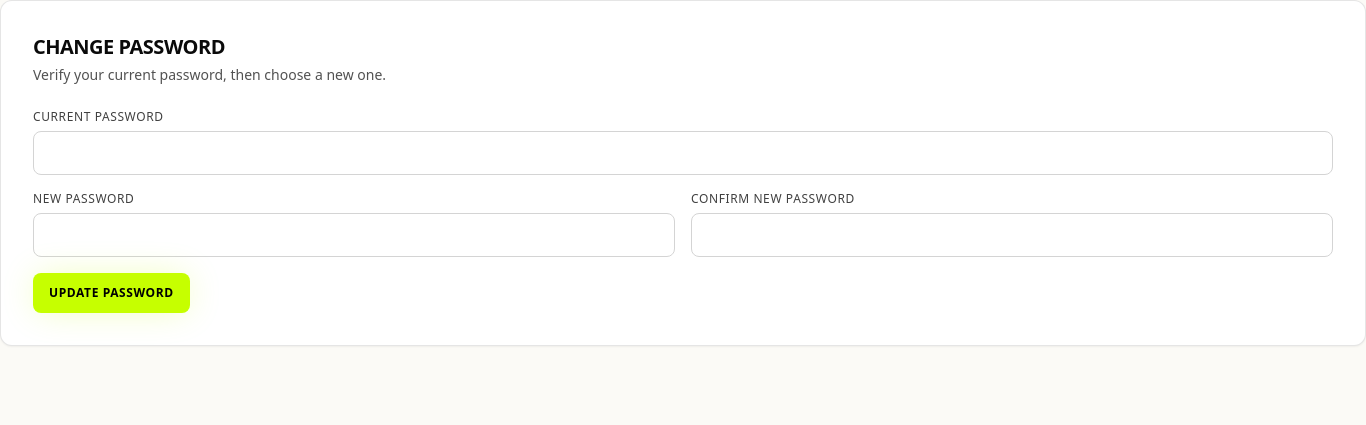
Test: ChangePasswordForm › does not update when the current password is wrong
Type "current-pass" into the password field labelled "Current password" at (683, 153), box [33, 131, 1333, 175]
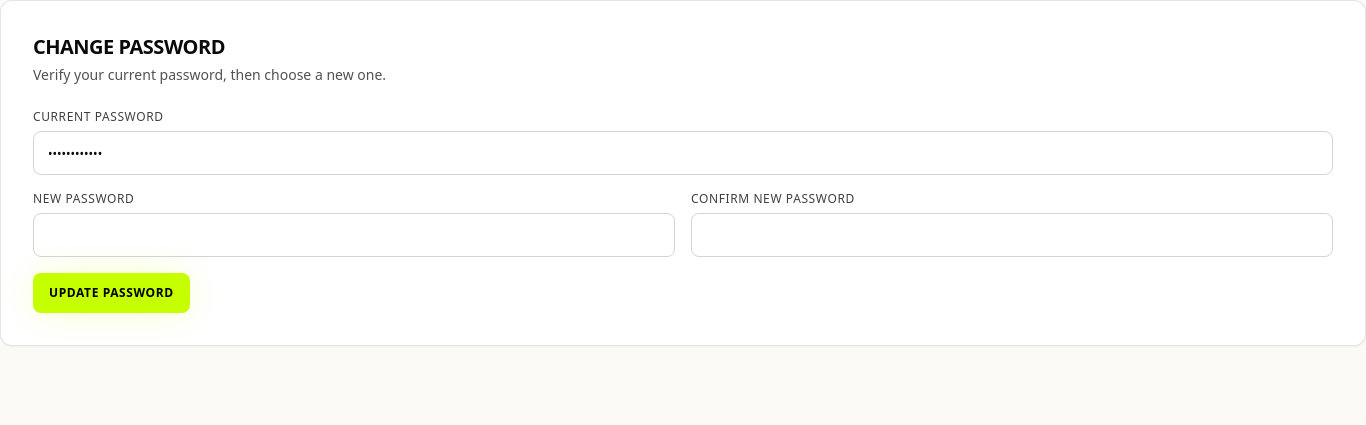
Type "replacement-pass" into the password field labelled "New password" at (354, 235), box [33, 213, 675, 257]
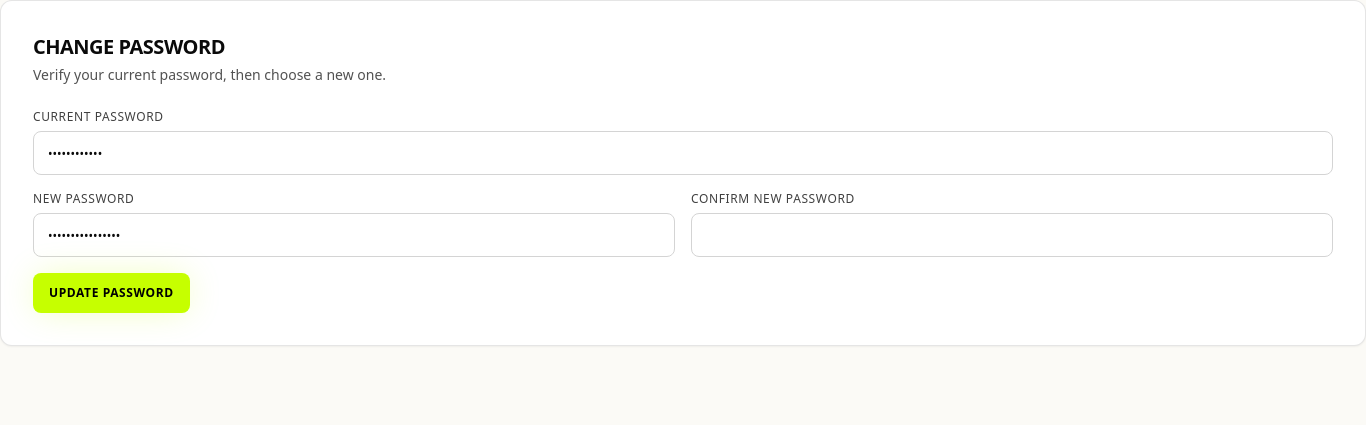
Type "replacement-pass" into the password field labelled "Confirm new password" at (1012, 235), box [691, 213, 1333, 257]
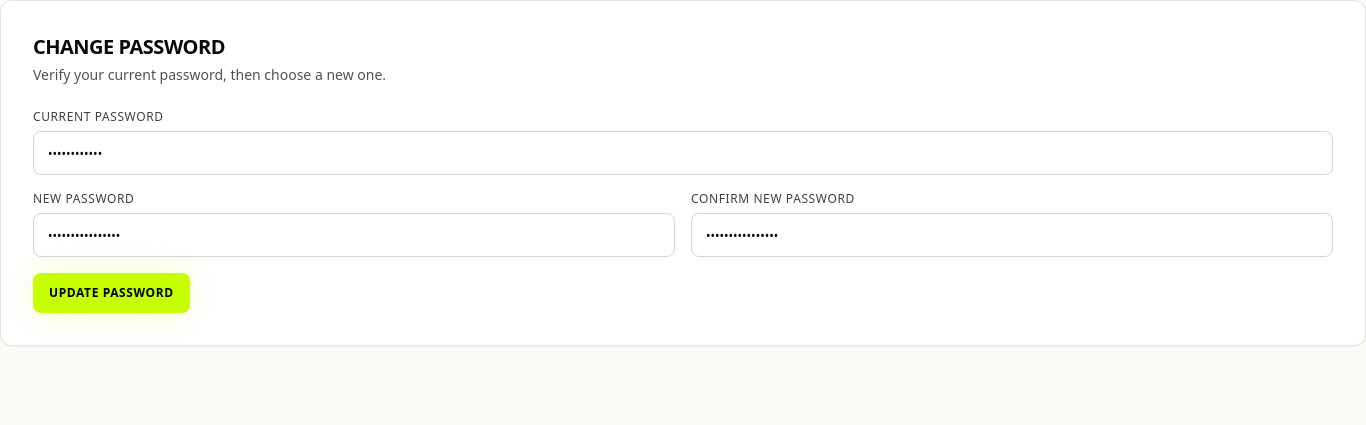
Click the button "Update password" at (111, 293), box [33, 273, 190, 313]
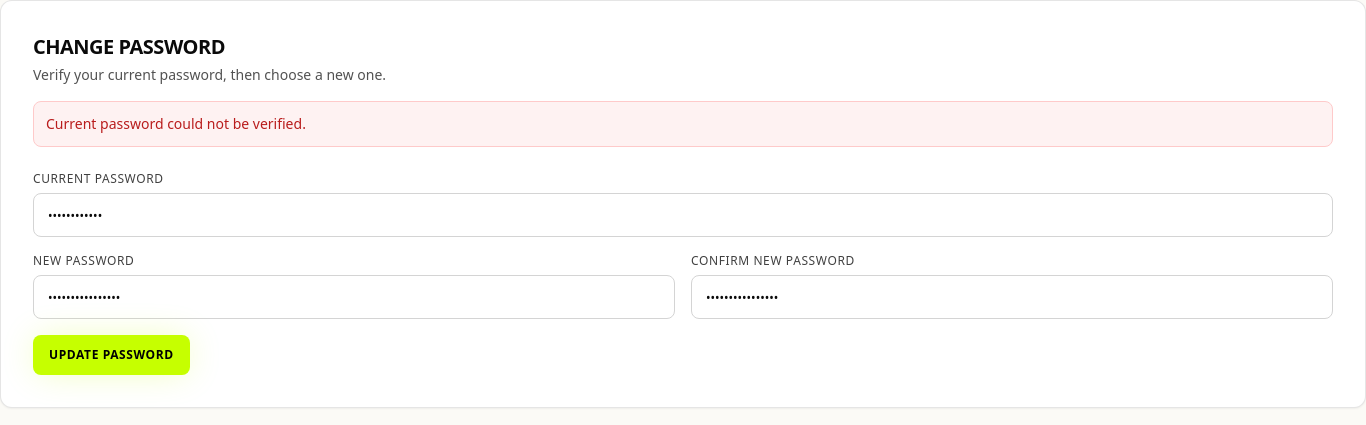
expect the message reads "Current password could not be verified.": met, box [46, 114, 306, 133]
